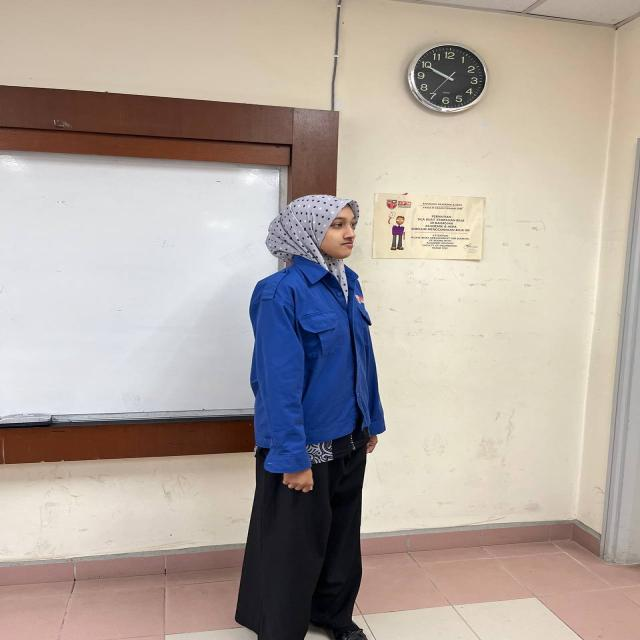person_with_labcoat: (235, 194, 385, 640)
